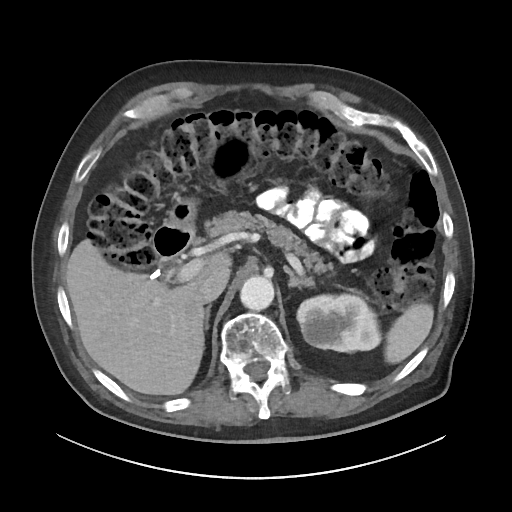Lesion: (304, 306, 347, 349)
